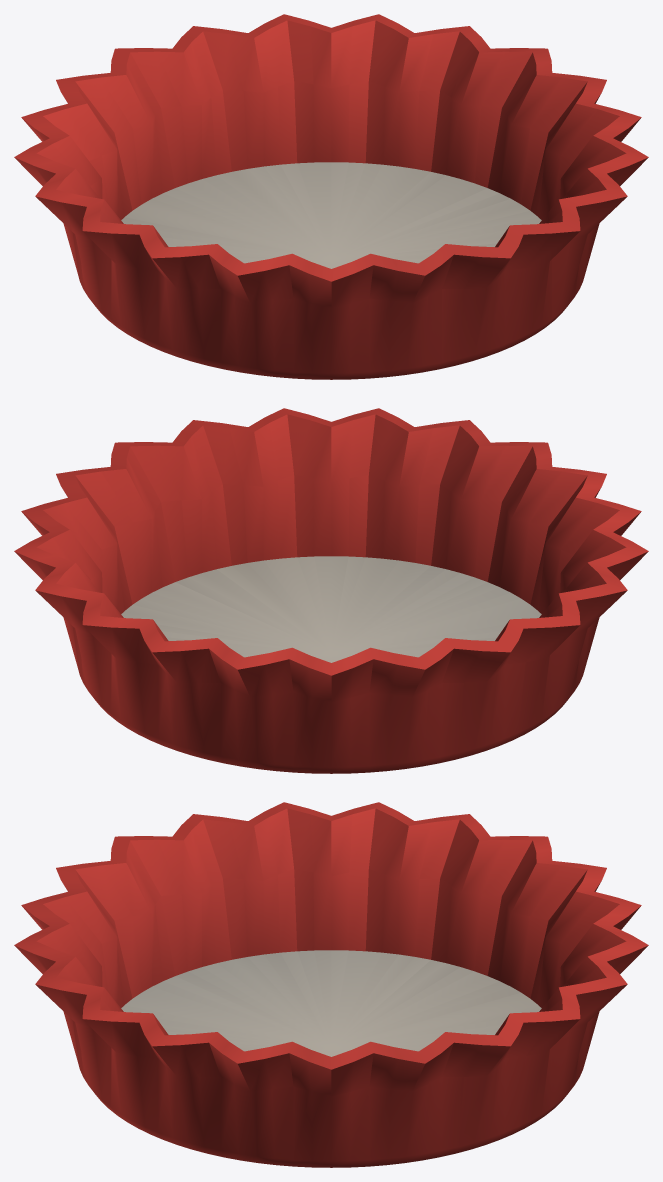
The model's file is shore_bottle_cap.glb.
The picture shows the model from 3 angles, top to bottom: view 1: azimuth 30°, elevation 25°; view 2: azimuth 150°, elevation 25°; view 3: azimuth 270°, elevation 25°; orthographic projection.
Visible parts, largest first — view 1: shore_bottle_cap; view 2: shore_bottle_cap; view 3: shore_bottle_cap.
Part boxes in pixels (x1,y1,x2,y2): shore_bottle_cap: (14,14,648,379); shore_bottle_cap: (14,408,648,773); shore_bottle_cap: (14,802,648,1167).
Bounding box in the file's own units: 8.96 × 2.05 × 8.98.
